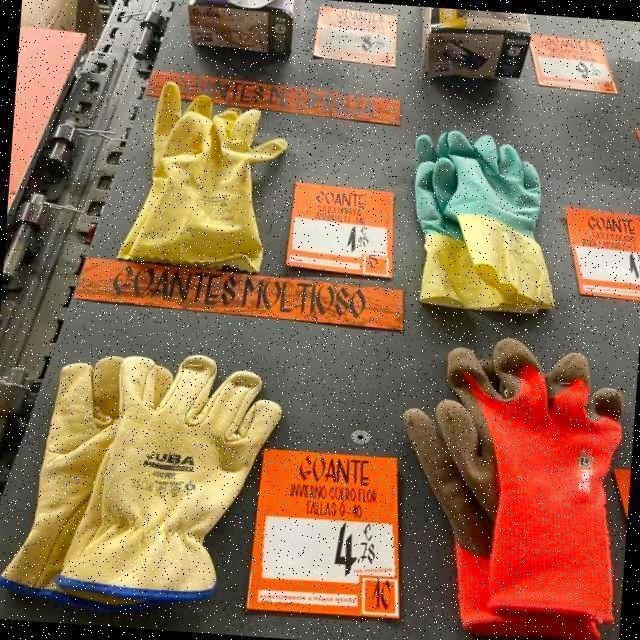Guantes: (56, 347, 265, 602), (420, 376, 623, 628), (412, 128, 560, 335), (150, 77, 280, 273)
